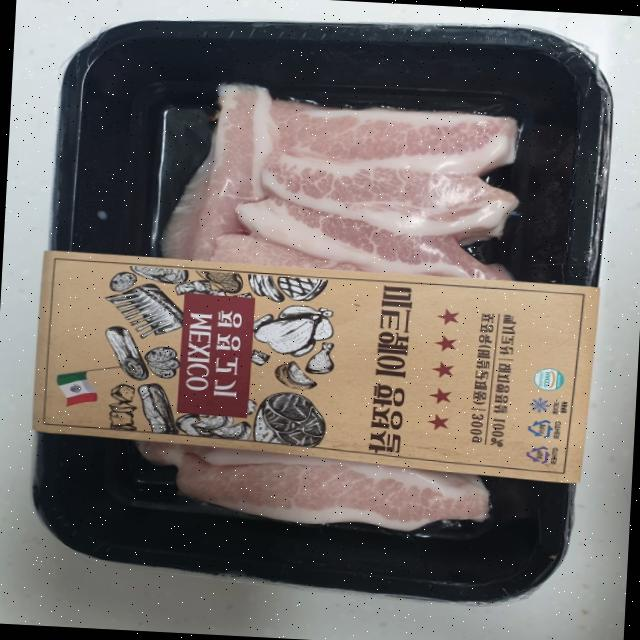meat: (44, 30, 591, 561)
